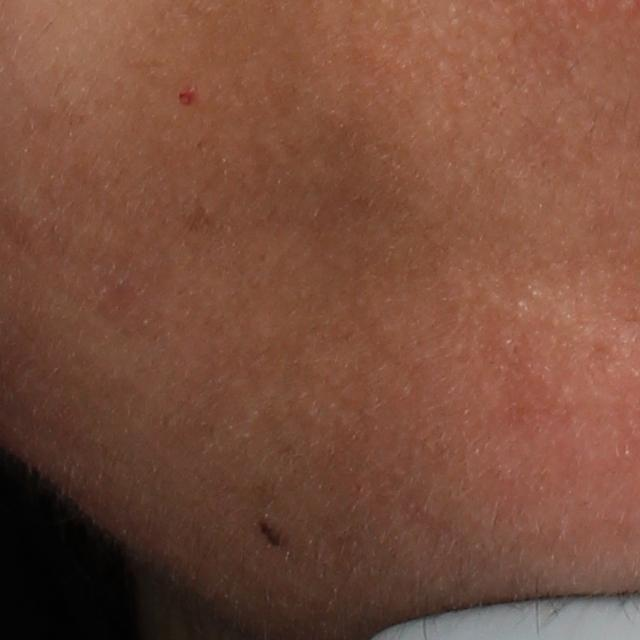nevus: (255, 515, 292, 552)
other: (175, 83, 198, 108)
